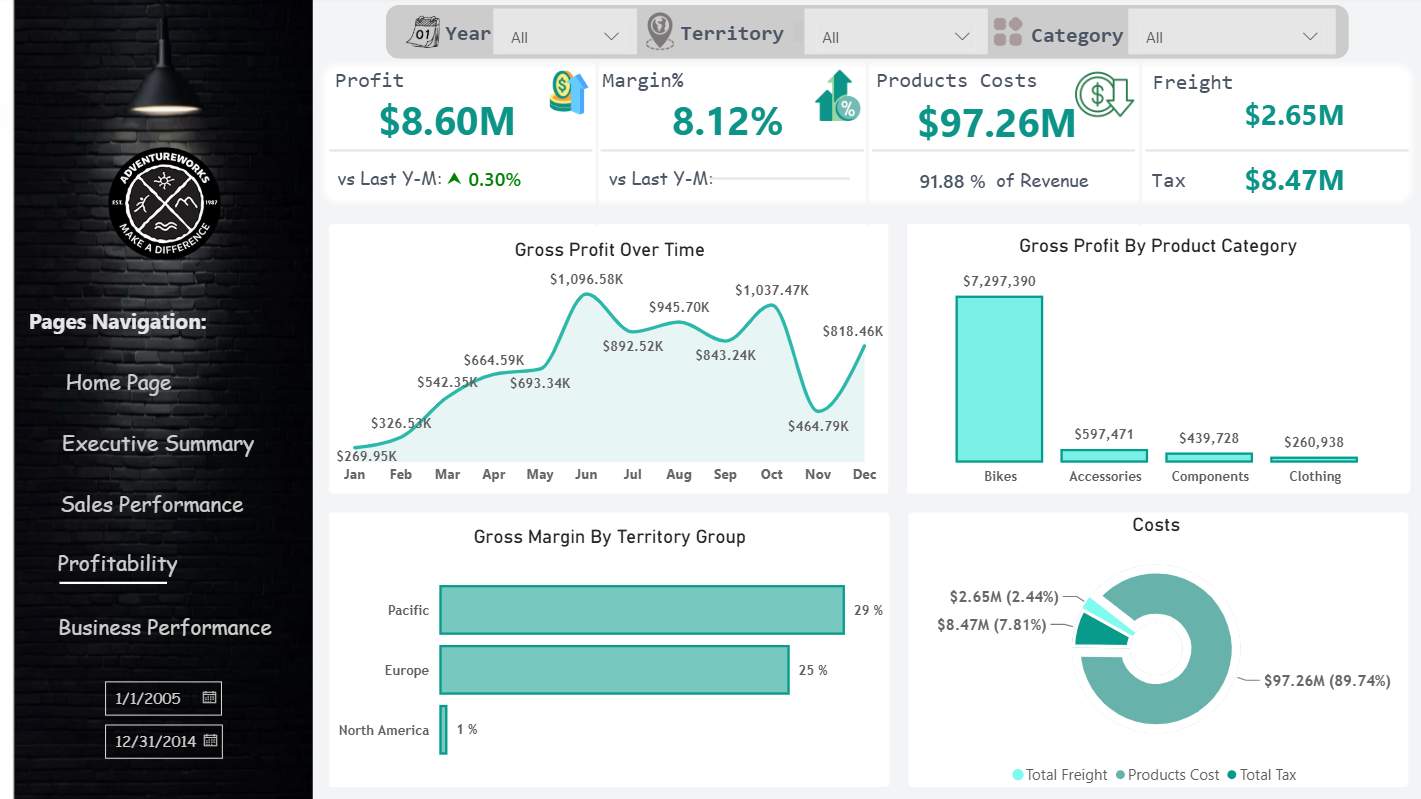

Layout of this report page (visuals, bound fields, positions):
{"tool":"powerbi","page":{"name":"4","canvas":[1280,720],"ordinal":4},"visuals":[{"type":"cardVisual","fields":{"Data":["_Measures.Gross Profit"]},"box":[314.7,72.4,211.1,71.2],"z":0},{"type":"textbox","box":[539,59.1,154.4,45.8],"z":1000},{"type":"textbox","box":[300.2,59.1,105,45.8],"z":2000},{"type":"shape","box":[300.2,129.3,234,16.9],"z":3000},{"type":"shape","box":[542.6,129.3,234,16.9],"z":4000},{"type":"textbox","box":[302.6,138.7,119.4,45.8],"z":5000},{"type":"image","box":[477.5,65.1,72.4,41],"z":7000},{"type":"cardVisual","fields":{"Data":["_Measures.Reseller Discount %"]},"box":[1123.8,123.5,118,71.4],"z":8000},{"type":"image","box":[722.4,65.1,61.5,45.8],"z":9000},{"type":"cardVisual","fields":{"Data":["_Measures.Profit cf"]},"box":[375,132.7,174.9,57.9],"z":10000},{"type":"shape","box":[784.2,129.1,234,16.9],"z":11000},{"type":"cardVisual","fields":{"Data":["_Measures.Total Resellers"]},"box":[848.1,67.6,202.7,71.2],"z":12000},{"type":"textbox","box":[783,59.1,154.4,45.8],"z":13000},{"type":"image","box":[957.8,61.7,54.9,53.5],"z":14000},{"type":"textbox","box":[1027.5,57.6,252.5,45.3],"z":18000},{"type":"shape","box":[1027.9,129.1,234,16.9],"z":21000},{"type":"cardVisual","fields":{"Data":["_Measures.Employee #"]},"box":[604.4,68.8,211.1,71.2],"z":21003},{"type":"clusteredColumnChart","fields":{"Y":["_Measures.Employee #"]},"box":[1087,258.2,193,150],"z":21004},{"type":"textbox","box":[544.1,138.7,166.5,45.8],"z":21005},{"type":"cardVisual","fields":{"Data":["_Measures.Active Employees"]},"box":[661.1,130.3,118.2,62.7],"z":21006},{"type":"cardVisual","fields":{"Data":["_Measures.Resellers Buys More Than One"]},"box":[938.6,130.4,118,63.1],"z":21008},{"type":"textbox","box":[786.3,140,201.7,46.7],"z":21010},{"type":"cardVisual","fields":{"Data":["_Measures.Reseller Discount (USD)"]},"box":[1051.1,72.7,203.1,70],"z":21011},{"type":"cardVisual","fields":{"Data":["_Measures.Reseller Discount %"]},"box":[570.8,300.5,277.2,124.9],"z":21012},{"type":"textbox","box":[1026.4,138.6,201.7,46.7],"z":21013},{"type":"image","box":[1211.7,64.5,50.8,53.5],"z":21014}]}

Visuals, with their boxes in screenshot pixels (x1, y1, x2, y2), scaled from the page's 1280x720 canvas onto the 1421x799 screenshot:
cardVisual - _Measures.Gross Profit: [x1=349, y1=80, x2=584, y2=159]
textbox: [x1=598, y1=66, x2=770, y2=116]
textbox: [x1=333, y1=66, x2=450, y2=116]
shape: [x1=333, y1=143, x2=593, y2=162]
shape: [x1=602, y1=143, x2=862, y2=162]
textbox: [x1=336, y1=154, x2=468, y2=205]
image: [x1=530, y1=72, x2=610, y2=118]
cardVisual - _Measures.Reseller Discount %: [x1=1248, y1=137, x2=1379, y2=216]
image: [x1=802, y1=72, x2=870, y2=123]
cardVisual - _Measures.Profit cf: [x1=416, y1=147, x2=610, y2=212]
shape: [x1=871, y1=143, x2=1130, y2=162]
cardVisual - _Measures.Total Resellers: [x1=942, y1=75, x2=1167, y2=154]
textbox: [x1=869, y1=66, x2=1041, y2=116]
image: [x1=1063, y1=68, x2=1124, y2=128]
textbox: [x1=1141, y1=64, x2=1420, y2=114]
shape: [x1=1141, y1=143, x2=1401, y2=162]
cardVisual - _Measures.Employee #: [x1=671, y1=76, x2=905, y2=155]
clusteredColumnChart - _Measures.Employee #: [x1=1207, y1=287, x2=1420, y2=453]
textbox: [x1=604, y1=154, x2=789, y2=205]
cardVisual - _Measures.Active Employees: [x1=734, y1=145, x2=865, y2=214]
cardVisual - _Measures.Resellers Buys More Than One: [x1=1042, y1=145, x2=1173, y2=215]
textbox: [x1=873, y1=155, x2=1097, y2=207]
cardVisual - _Measures.Reseller Discount (USD): [x1=1167, y1=81, x2=1392, y2=158]
cardVisual - _Measures.Reseller Discount %: [x1=634, y1=333, x2=941, y2=472]
textbox: [x1=1139, y1=154, x2=1363, y2=206]
image: [x1=1345, y1=72, x2=1402, y2=131]
